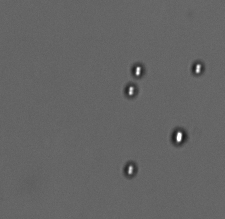Living Cell: (121, 158, 141, 180), (169, 126, 189, 147), (122, 81, 140, 99), (190, 59, 206, 77), (129, 63, 147, 78)
